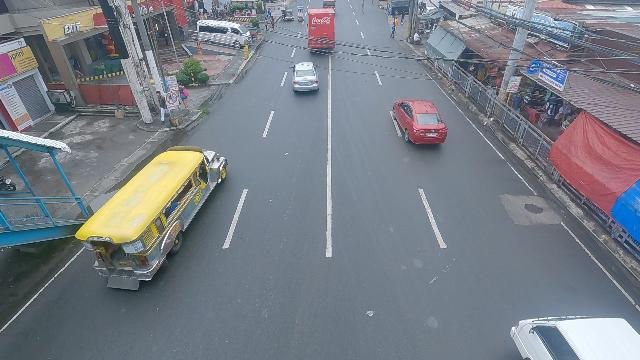car: (390, 98, 448, 149), (287, 61, 319, 93), (323, 0, 336, 9)
jeepney: (75, 147, 230, 296)
truck: (309, 8, 337, 52)
van: (196, 19, 251, 49)
